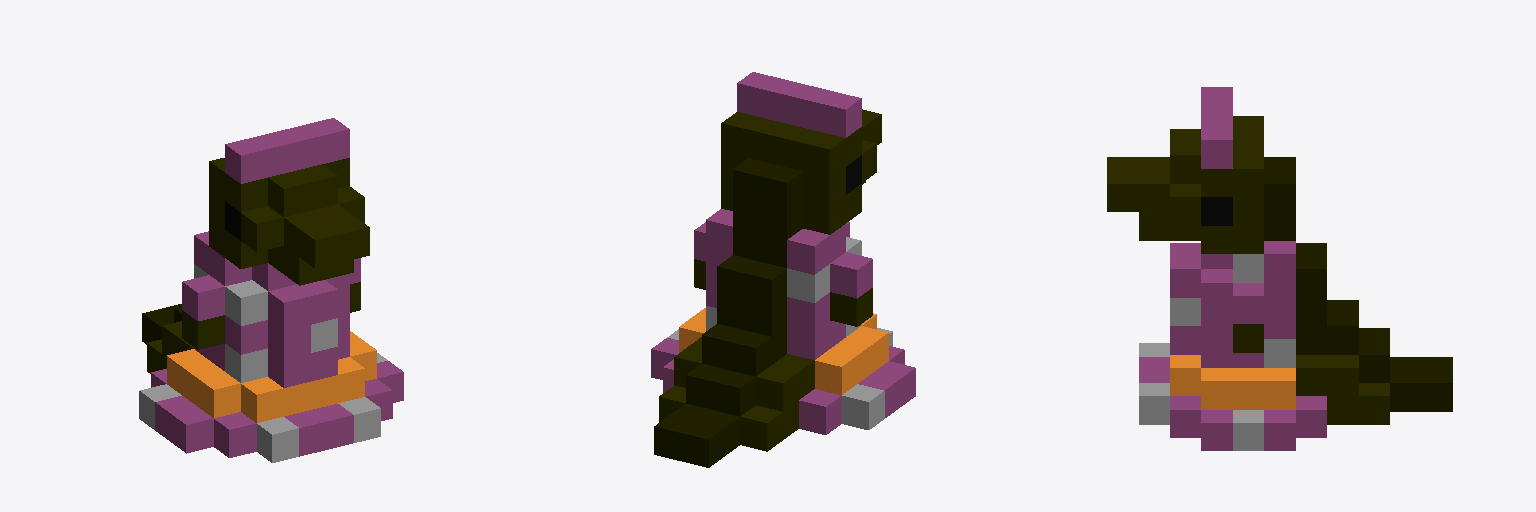
The picture shows the model from 3 angles: view 1: azimuth 30°, elevation 25°; view 2: azimuth 150°, elevation 25°; view 3: azimuth 270°, elevation 25°; orthographic projection.
Parts seen in each view (by area): view 1: object 1; view 2: object 1; view 3: object 1.
Part boxes in pixels (x1,y1,x2,y2): object 1: (139,118,403,462); object 1: (651,72,915,467); object 1: (1107,87,1452,450).
Size of the model in its own units: 0.8 by 1 by 1.1.
Materials: 1 (1 with a texture image).